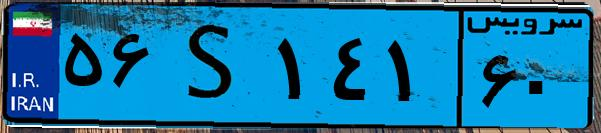0: (525, 38, 570, 115)
1: (270, 28, 330, 110), (385, 28, 445, 110)
4: (330, 28, 385, 110)
5: (57, 26, 110, 100)
6: (475, 38, 525, 113), (110, 28, 158, 98)
S: (158, 12, 270, 120)
